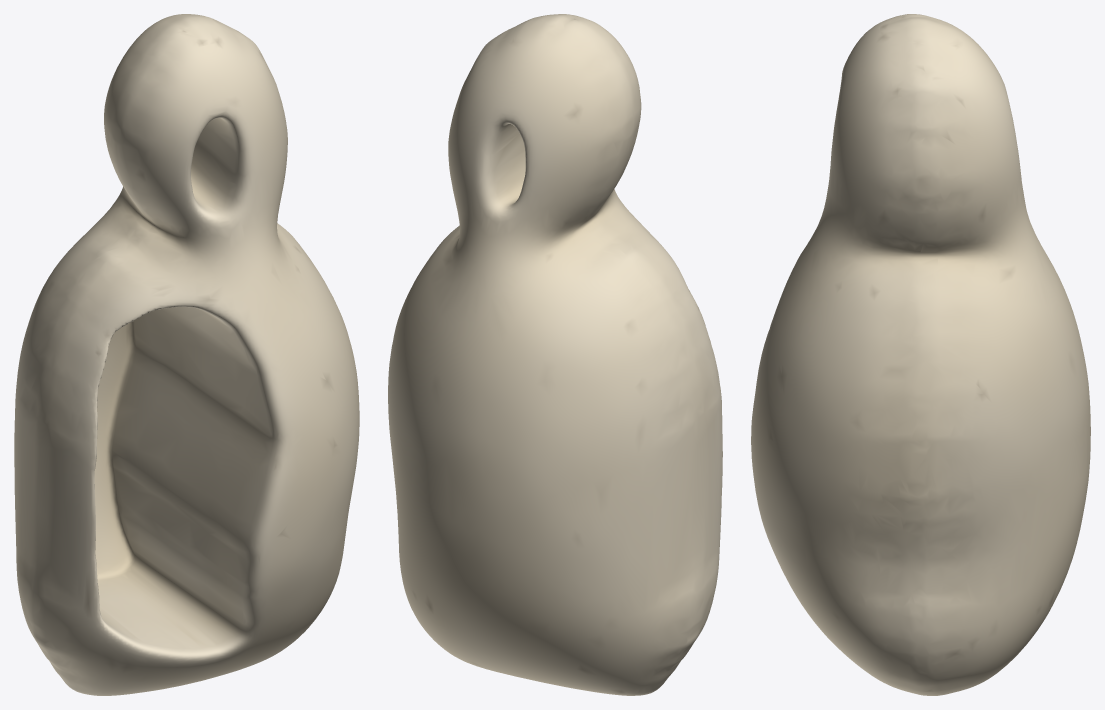
Rendered from bishop-white-hd.glb.
3 views of the same model, side by side, from view 1: azimuth 30°, elevation 25°; view 2: azimuth 150°, elevation 25°; view 3: azimuth 270°, elevation 25° (orthographic).
Visible parts, largest first — view 1: Lumen strelec bila; view 2: Lumen strelec bila; view 3: Lumen strelec bila.
Boxes of the visible parts, left/top/right/bottom form: Lumen strelec bila: left=14, top=14, right=359, bottom=695; Lumen strelec bila: left=388, top=14, right=722, bottom=695; Lumen strelec bila: left=751, top=14, right=1090, bottom=695.
Bounding box in the file's own units: 0.5685 × 1.19 × 0.5711.
